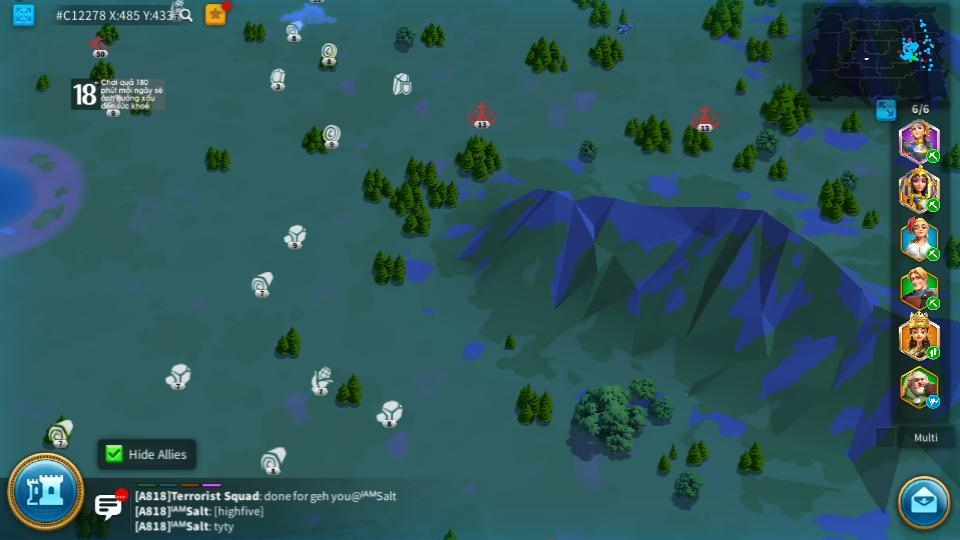gem-z-out: (285, 224, 305, 246)
march_farming: (925, 197, 941, 212)
march_idle: (925, 396, 943, 408)
march_marching: (925, 345, 941, 359), (925, 150, 941, 162), (925, 297, 942, 308)
